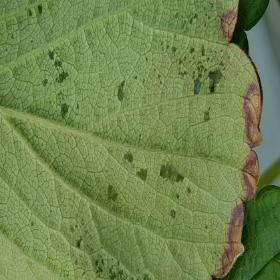Angular Leafspot: (1, 0, 263, 279)
